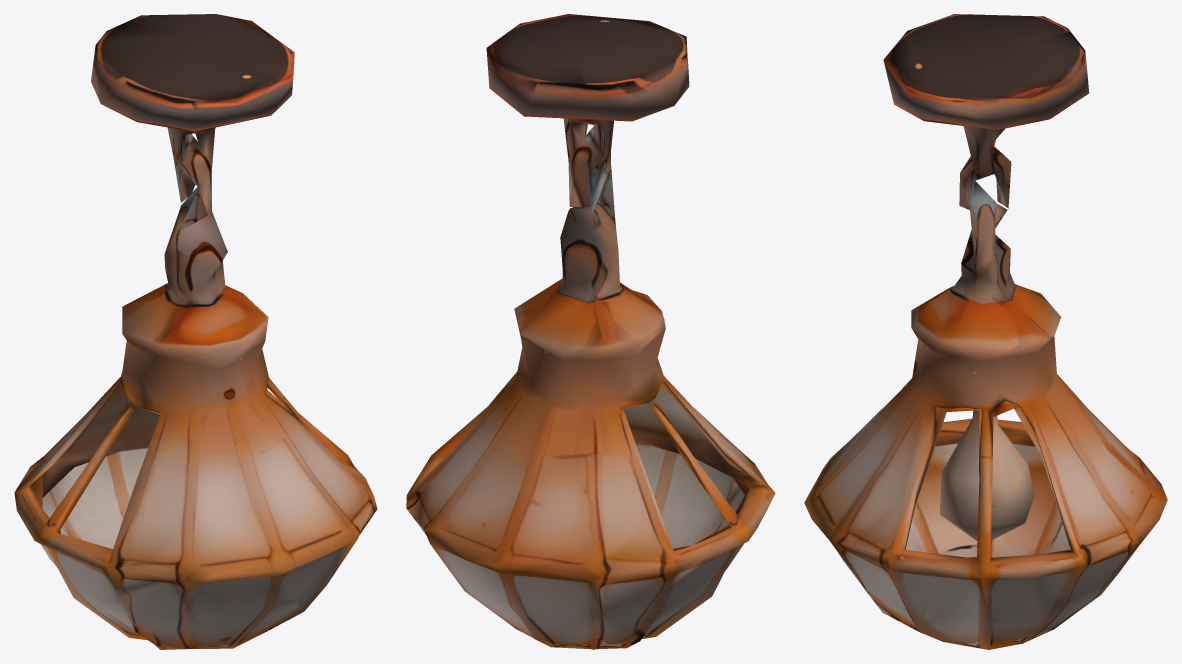
Rendered from pendant+lamp+3d+model.obj.
3 views of the same model, side by side, from view 1: azimuth 30°, elevation 25°; view 2: azimuth 150°, elevation 25°; view 3: azimuth 270°, elevation 25° (orthographic).
Visible parts, largest first — view 1: tripo_node_e1f3e2b4-ee56-4b7f-8671-a5c5e0314b0a; view 2: tripo_node_e1f3e2b4-ee56-4b7f-8671-a5c5e0314b0a; view 3: tripo_node_e1f3e2b4-ee56-4b7f-8671-a5c5e0314b0a.
Part boxes in pixels (x1,y1,x2,y2): tripo_node_e1f3e2b4-ee56-4b7f-8671-a5c5e0314b0a: (14, 14, 377, 649); tripo_node_e1f3e2b4-ee56-4b7f-8671-a5c5e0314b0a: (406, 14, 775, 649); tripo_node_e1f3e2b4-ee56-4b7f-8671-a5c5e0314b0a: (804, 14, 1167, 649).
Bounding box in the file's own units: 0.5558 × 1.01 × 0.5561.
Materials: 1 (1 with a texture image).
